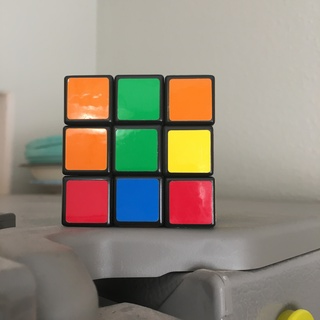face: (62, 74, 217, 228)
